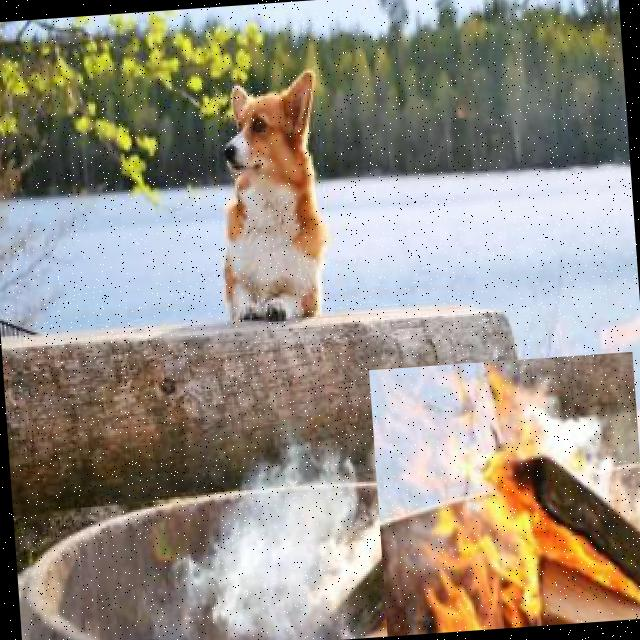fire: (368, 351, 640, 636)
